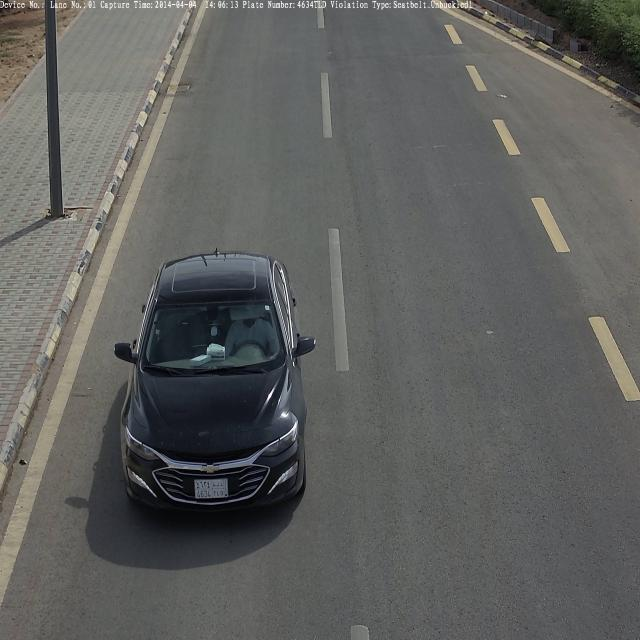person_without_seatbelt: (227, 310, 271, 355)
